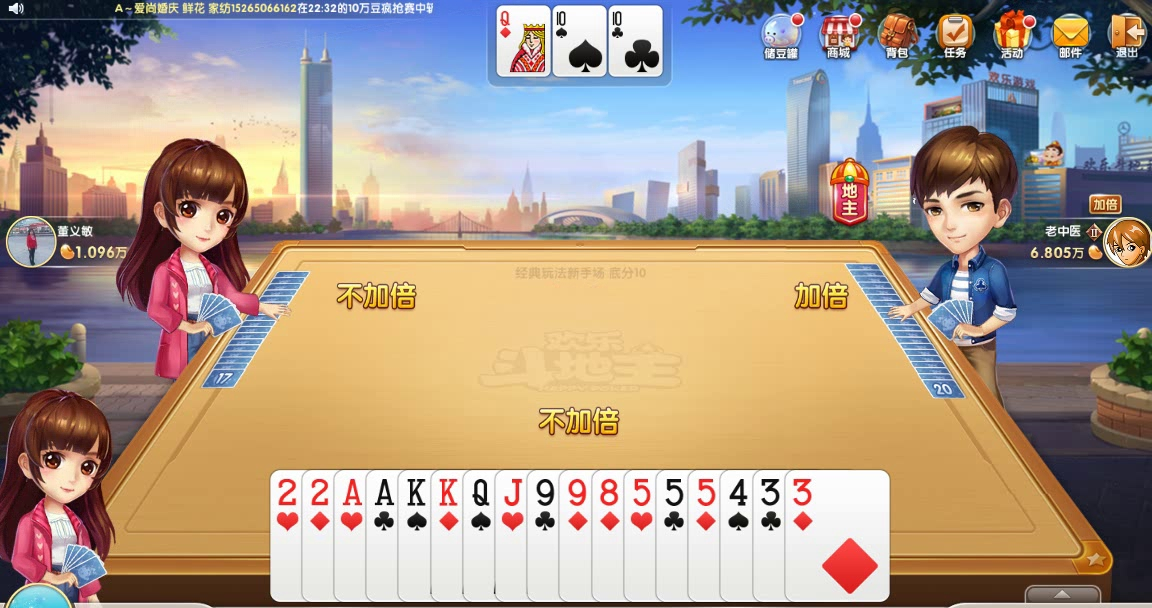10~2: (608, 4, 662, 78)
10~4: (552, 4, 606, 78)
11~3: (492, 469, 600, 601)
12~1: (496, 4, 550, 78)
12~4: (462, 469, 570, 601)
13~1: (429, 469, 537, 601)
13~4: (396, 469, 504, 601)
14~2: (364, 469, 472, 601)
14~3: (333, 469, 441, 601)
15~1: (299, 469, 407, 601)
15~3: (269, 469, 377, 601)
3~1: (783, 470, 891, 602)
3~2: (752, 470, 860, 602)
4~4: (718, 469, 826, 601)
5~1: (686, 469, 794, 601)
5~2: (655, 469, 763, 601)
5~3: (623, 469, 731, 601)
8~1: (590, 468, 698, 600)
9~1: (558, 468, 666, 600)
9~2: (525, 468, 633, 600)
